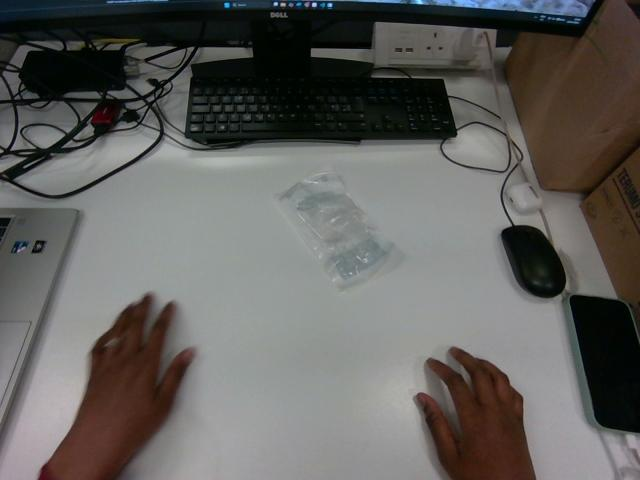gallipot: (276, 169, 391, 287)
